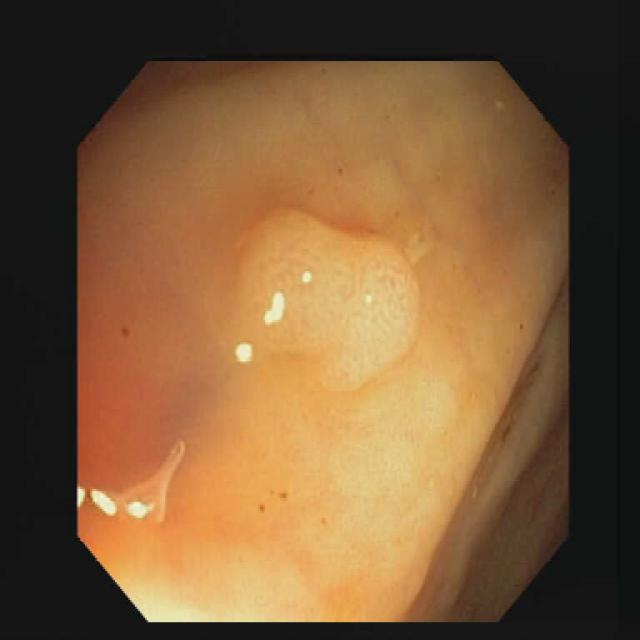tumor: (238, 211, 417, 389)
